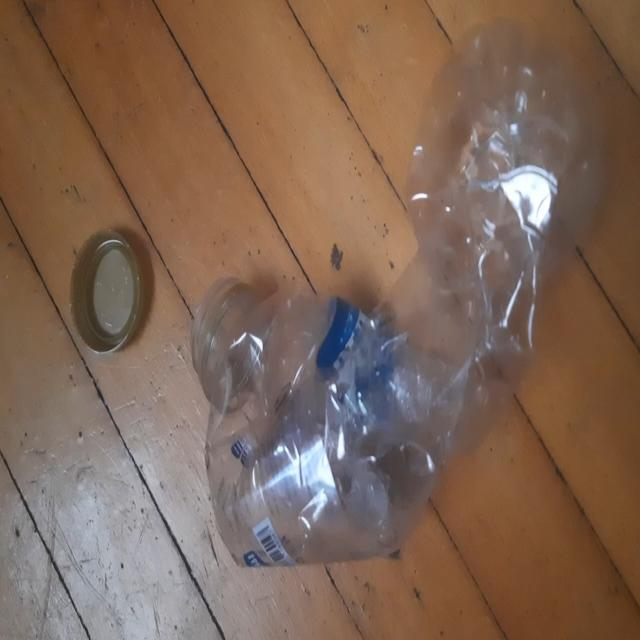Plastic: (196, 18, 604, 569), (68, 228, 156, 358)
